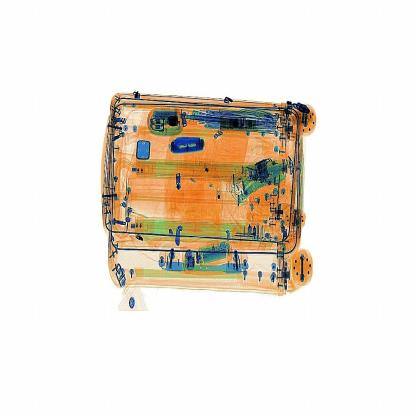scissors: (166, 131, 213, 159)
